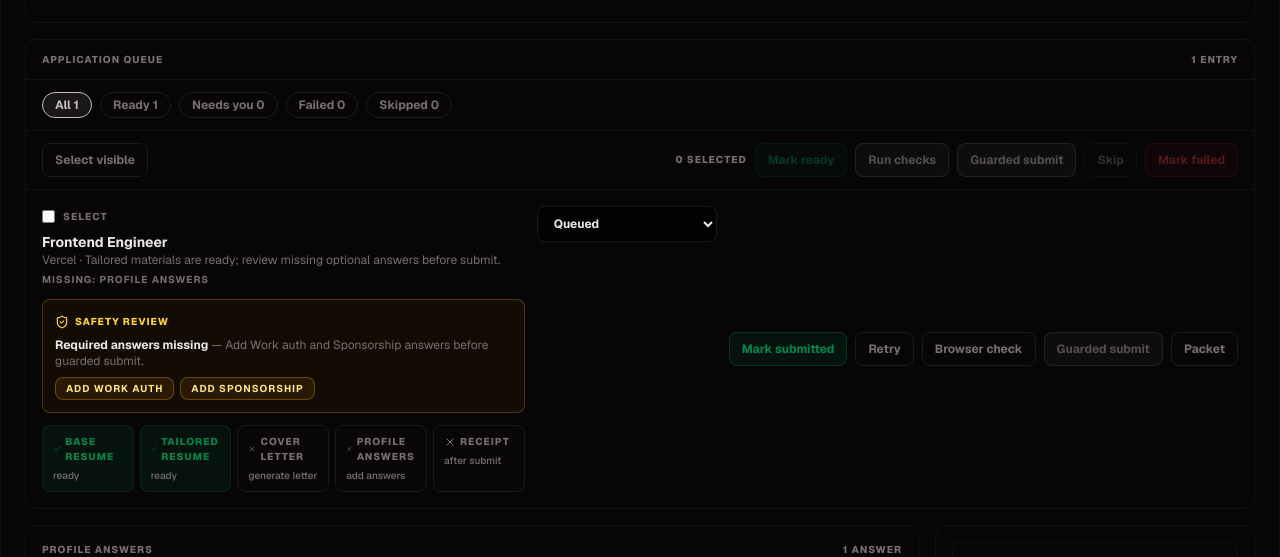
Scenario: ApplyAgentCommandCenter › renders queue filters and prepared packet
The width and height of the screenshot is (1280, 557).
(page scrolled)
Check: the button "Ready 1" is shown, box [100,92,171,118]
Click the button "Packet" at (1204, 349), box [1171,332,1238,366]
(page scrolled)
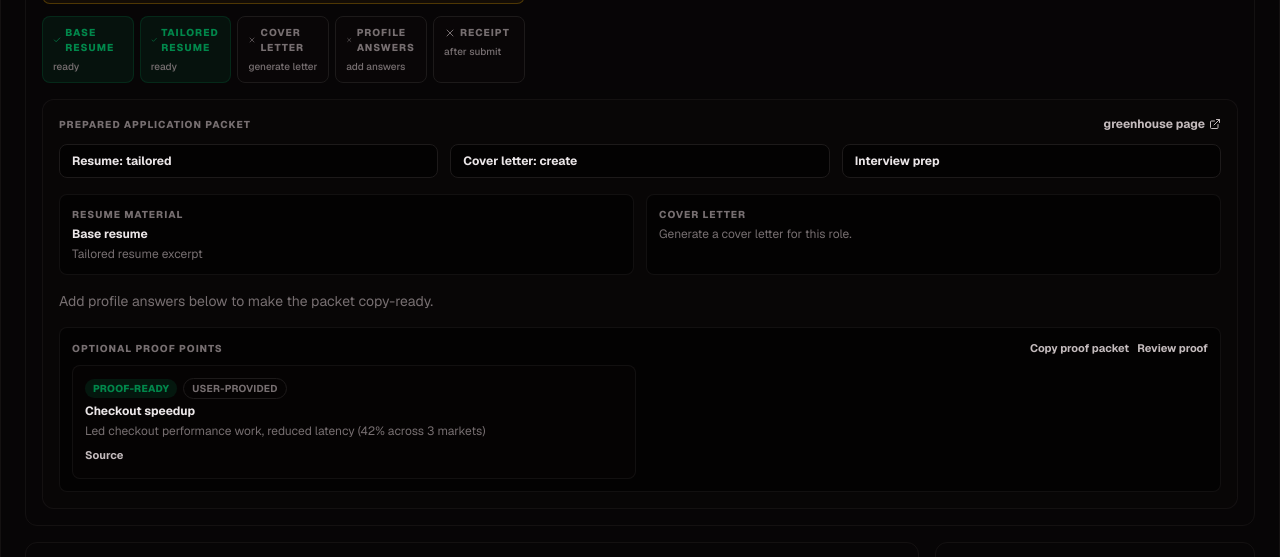
Check: the text "Prepared application packet" is shown, box [59,117,251,132]
Check: the text "Optional proof points" is shown, box [72,341,223,356]
Check: the text "Checkout speedup" is shown, box [85,403,195,419]
Click the button "Copy proof packet" at (1080, 349), box [1030,340,1129,357]
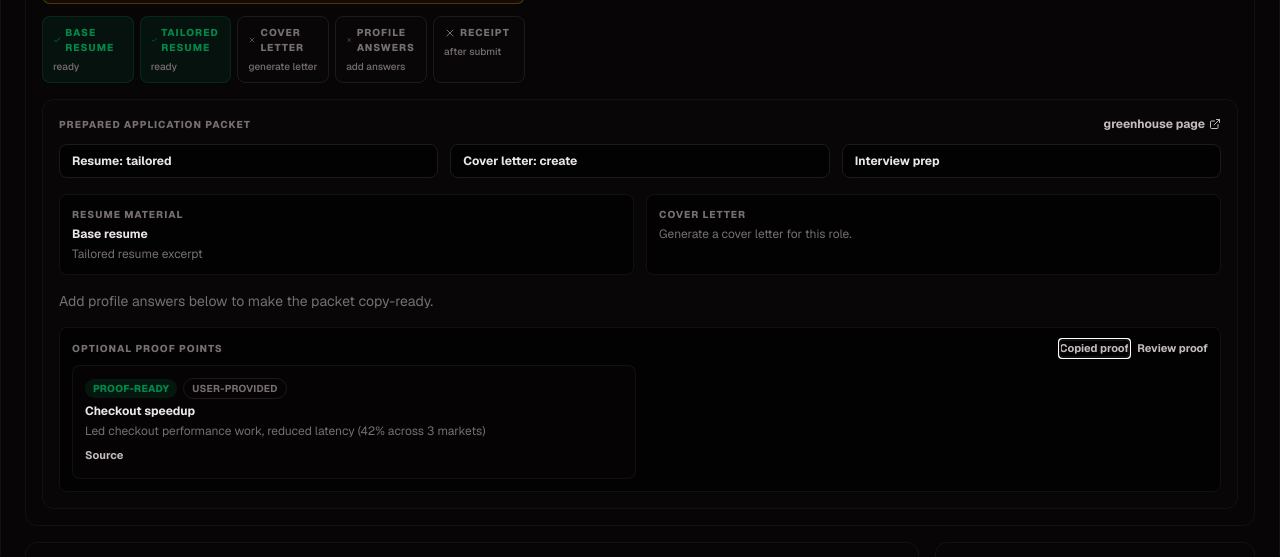
Check: the button "Copied proof" is shown, box [1060,340,1129,357]
